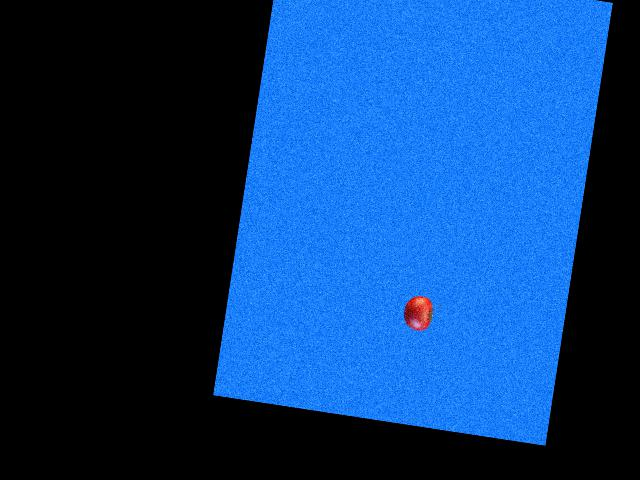tomato: (401, 294, 434, 332)
